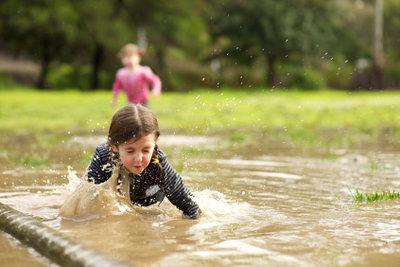child: (74, 101, 209, 223)
